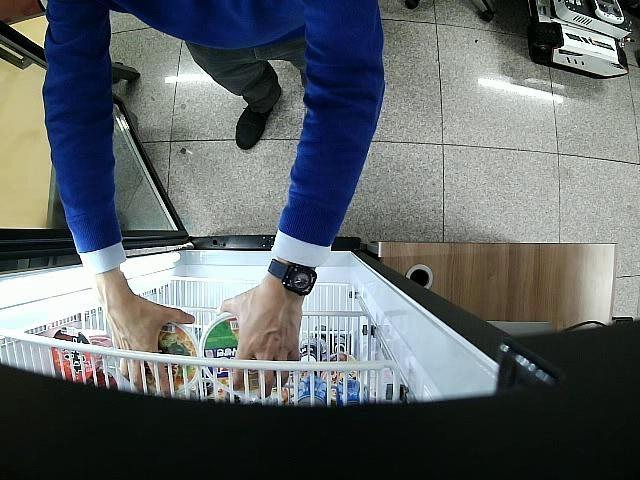09_yukGaeJang: (148, 320, 197, 386), (198, 312, 238, 391)
